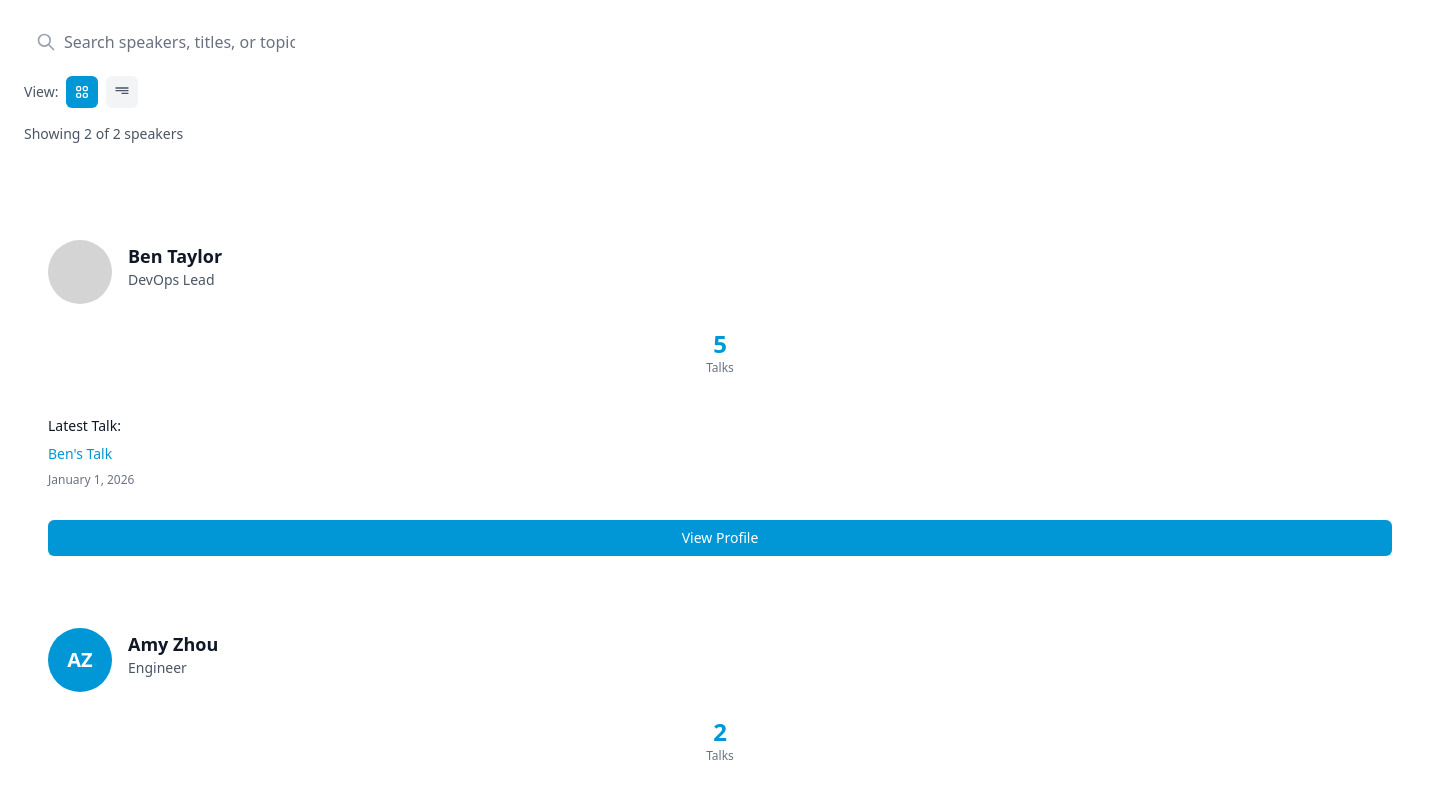
Test case: SpeakersTable › filters speakers by search term
Type "Amy" into the field with placeholder "Search speakers, titles, or topics..." at (166, 42), box [24,24,307,60]
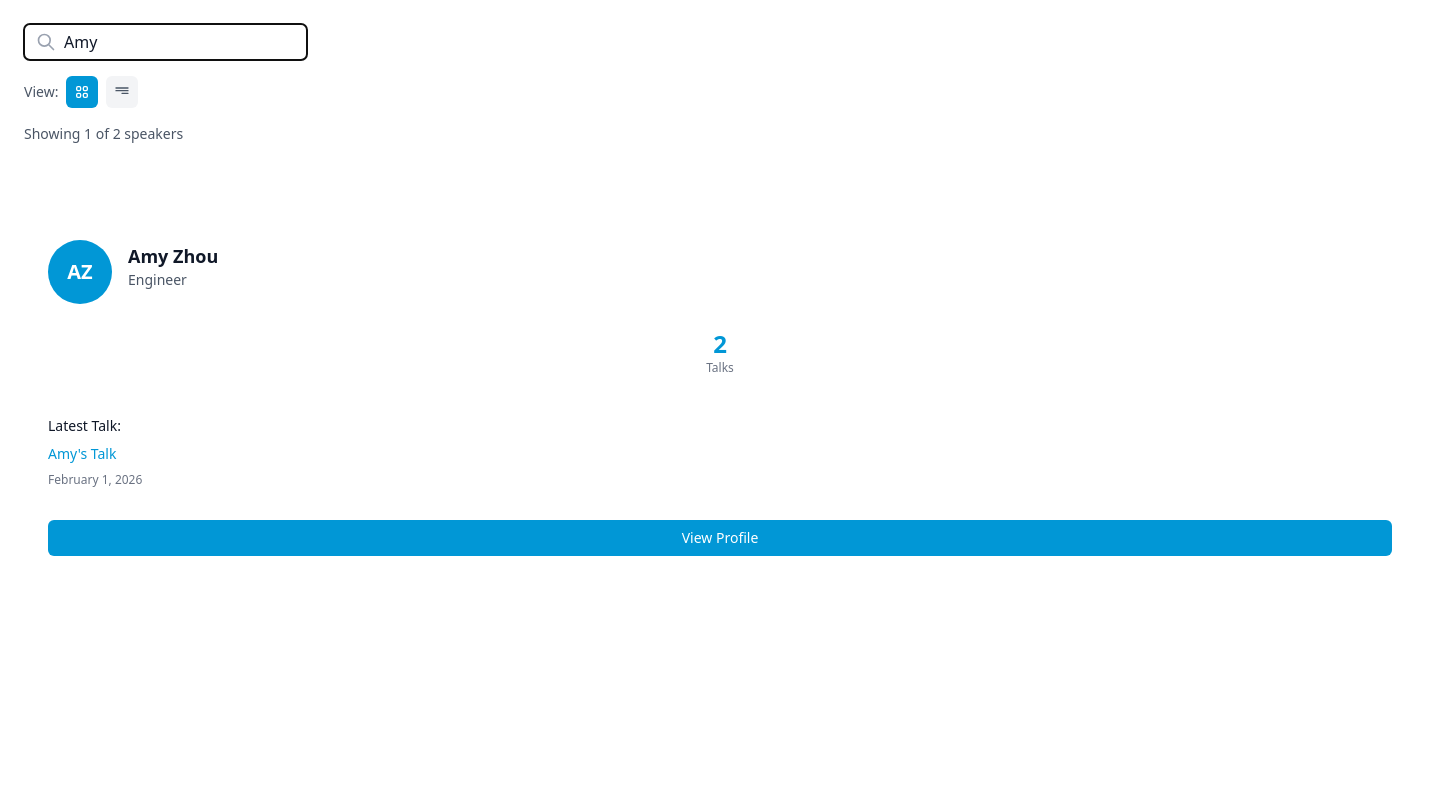
Check: the text "Showing 1 of 2 speakers" is shown, box [24,124,183,143]
